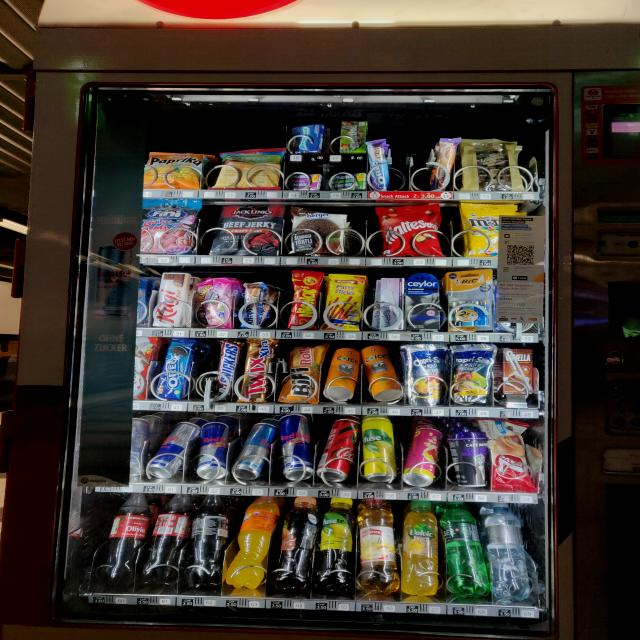7days_croissantschoko_packung_80_1_0000000000003: (485, 418, 537, 489)
airwaves_menthoneucalyptus_riegel_14_1_50173167: (288, 124, 324, 154)
bifi_roll__50__4251097402635: (281, 343, 322, 404)
c-swiss_dosenabisicetea__33__9120025930135: (323, 342, 365, 407), (358, 342, 401, 402)
caferoyal_classicmacchiato__33__7617014164487: (449, 427, 494, 487)
caprisun_multivitamin__20__4000177605004: (447, 345, 497, 404), (406, 342, 448, 406)
coke__dose_33__54491472: (318, 420, 360, 483)
coke__flasche_50__54491472: (134, 494, 190, 582), (95, 493, 151, 581)
coke_zero_flasche_50__5449000131836: (180, 496, 234, 590)
comella_schokodrink__33__7613100037253: (498, 346, 539, 396)
fanta___50__40822938: (227, 496, 280, 592)
fini_galaxymix_packung_100_1_8410525150364: (140, 197, 202, 255)
fini_jellykisses_packung_80_1_8410525116704: (195, 276, 241, 330)
fuse_lemon__50__5449000235947: (314, 498, 355, 592)
fuse_lemon_dose_33__5449000235947: (360, 419, 402, 483)
fuse_peach__50__5449000236623: (272, 497, 322, 592)
jacklinks_beefjerkyorginal__25__4047751730219: (211, 202, 289, 255)
jlbrichard_gauffrechoko__90__5410495002079: (454, 138, 522, 192)
kagi___50__7610046000259: (149, 269, 192, 328)
knoppers_riegel____4035800488808: (237, 282, 272, 331)
lorenz_nicnacs__40__4018077798818: (287, 268, 324, 330)
malburner_partysticks__40__7610200279682: (325, 273, 367, 330)
maltesers___100__5000159023061: (380, 202, 447, 258)
mnms_gelb__45__40111445: (456, 204, 520, 256)
oreo___66__84100733: (153, 340, 195, 399)
ramseier_schorle__50__7610057012456: (349, 500, 401, 594)
redbull___33__90162909: (146, 420, 196, 478), (276, 413, 319, 480), (197, 420, 235, 478)
redbull_light__33__90162800: (231, 422, 275, 481)
skittles_sour_riegel_51_1_0000000000004: (331, 118, 375, 156)
snickers___50__5000159461122: (209, 341, 241, 401)
stimorol_spearmint_riegel_14_1_0000000000005: (333, 170, 367, 188)
stimorol_wildcherry_riegel_14_1_57060330: (290, 171, 325, 191)
tiki_himbeer_brause__50__00000000009342: (398, 423, 446, 487)
twix___50__5000159459228: (233, 339, 279, 403)
valser_classic__50__76404160: (445, 505, 486, 596)
valser_still__50__7610335002575: (491, 504, 528, 600)
volvic_pinapple__50__305764335648: (401, 501, 443, 596)
zweifel_graneochilli__100__7610095184009: (209, 147, 289, 191)
zweifel_paprika__90__7610095013002: (142, 148, 209, 190)
